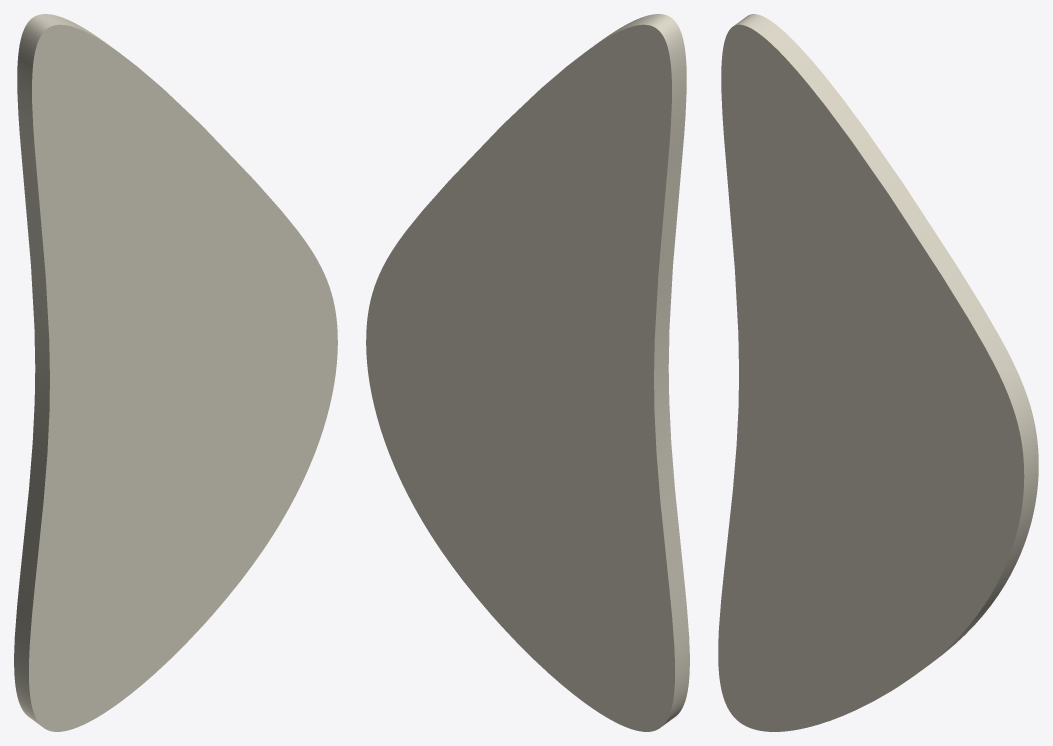
File: rice.gltf
The picture shows the model from 3 angles, left to right: view 1: azimuth 30°, elevation 25°; view 2: azimuth 150°, elevation 25°; view 3: azimuth 330°, elevation 25°; orthographic projection.
Visible parts, largest first — view 1: mesh1_meshnode_1, mesh0_meshnode_0; view 2: mesh2_meshnode_2, mesh0_meshnode_0; view 3: mesh1_meshnode_1, mesh0_meshnode_0.
Part boxes in pixels (<box>): mesh1_meshnode_1: <box>29,24,337,731</box>; mesh0_meshnode_0: <box>14,14,114,726</box>; mesh2_meshnode_2: <box>366,24,674,731</box>; mesh0_meshnode_0: <box>589,14,689,726</box>; mesh1_meshnode_1: <box>718,24,1024,731</box>; mesh0_meshnode_0: <box>734,14,1038,670</box>.
Bounding box in the file's own units: 0.023 × 0.0503 × 0.0019.
